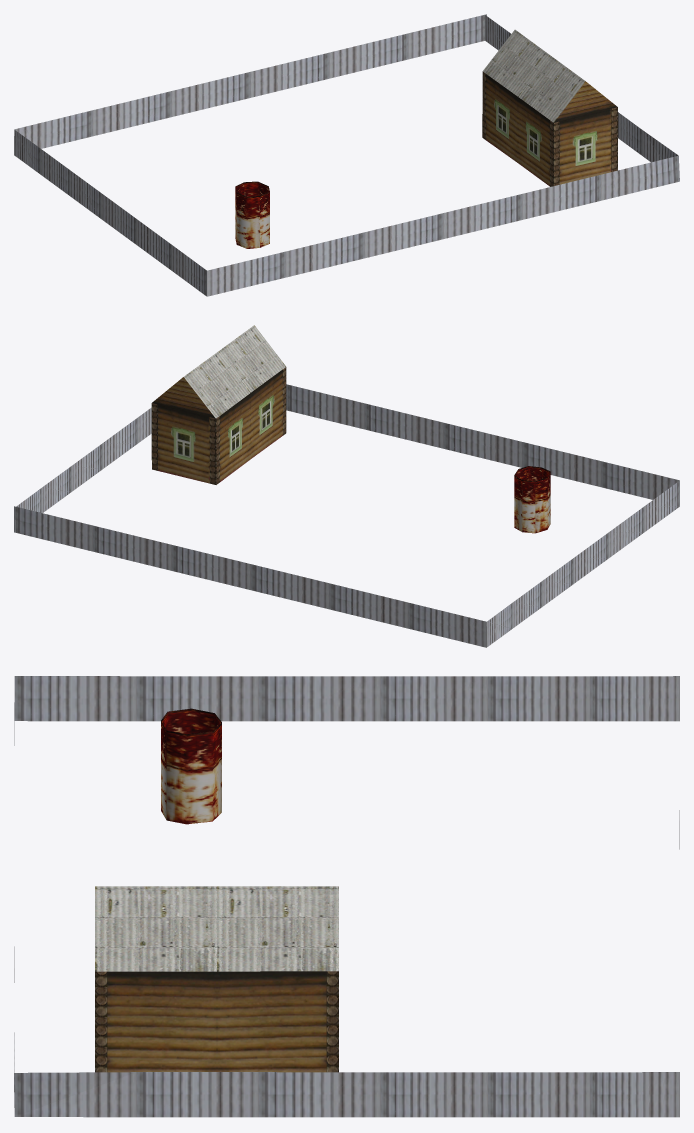
File: houseBackground1.FBX
The picture shows the model from 3 angles, top to bottom: view 1: azimuth 30°, elevation 25°; view 2: azimuth 150°, elevation 25°; view 3: azimuth 270°, elevation 25°; orthographic projection. The views are drawn at different scales.
Visible parts, largest first — view 1: house10; view 2: house10; view 3: house10.
Boxes of the visible parts, x1,y1,x2,y2 form: house10: (14,14,679,296); house10: (14,325,679,647); house10: (14,676,679,1117).
Size of the model in its own units: 3540 by 757 by 2504.
